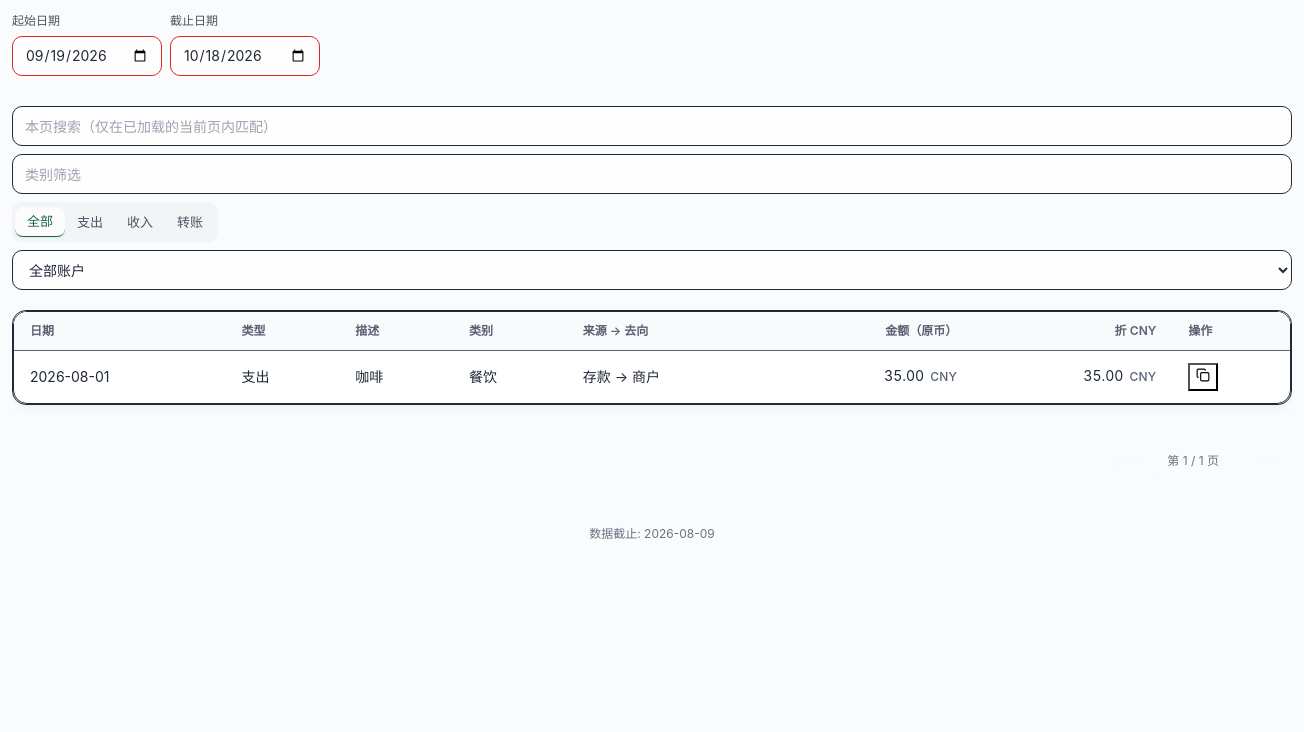
PeriodToolbar › 明细页期间无效时保留最后有效查询且不发新请求
Check: the table named "交易明细" is shown, box top-left (14, 312), bottom-right (1290, 402)
Type "2026-12-31" into the date field labelled "起始日期" at point(87, 56), box top-left (12, 36), bottom-right (162, 76)
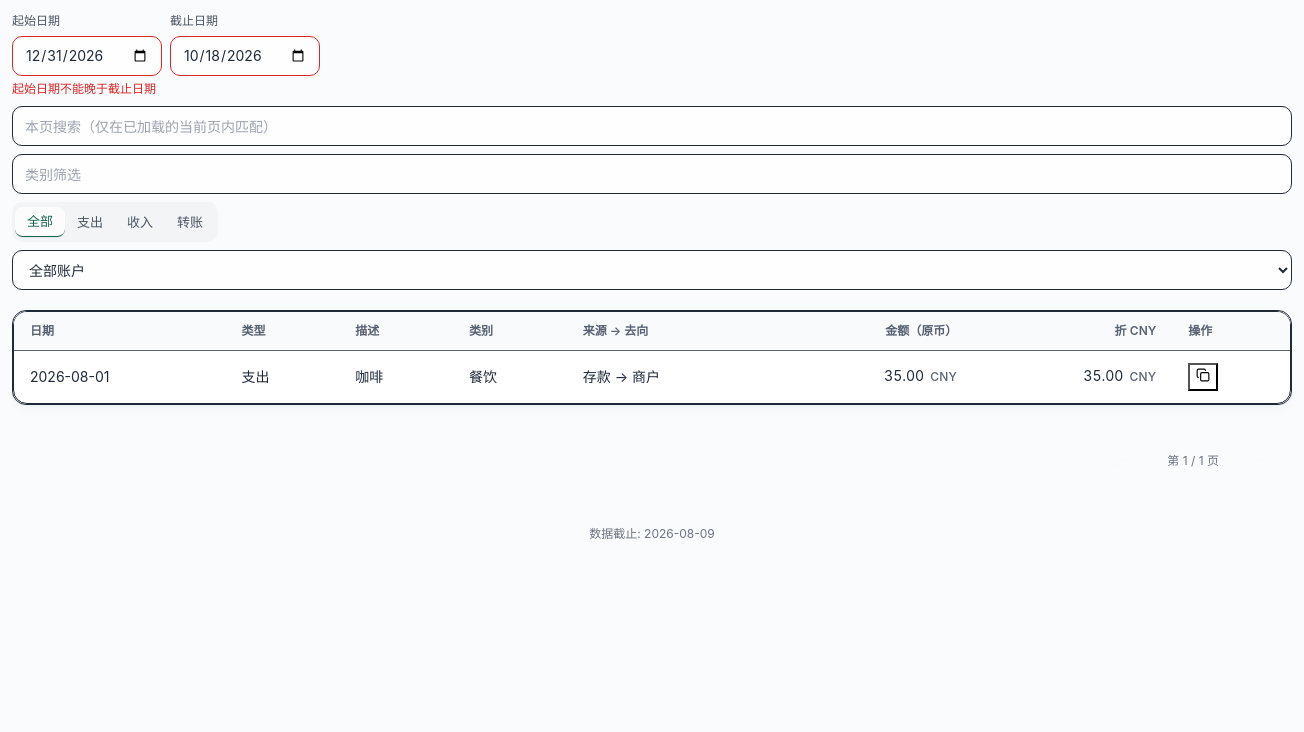
Check: the message reads "起始日期不能晚于截止日期", box top-left (12, 81), bottom-right (156, 96)
